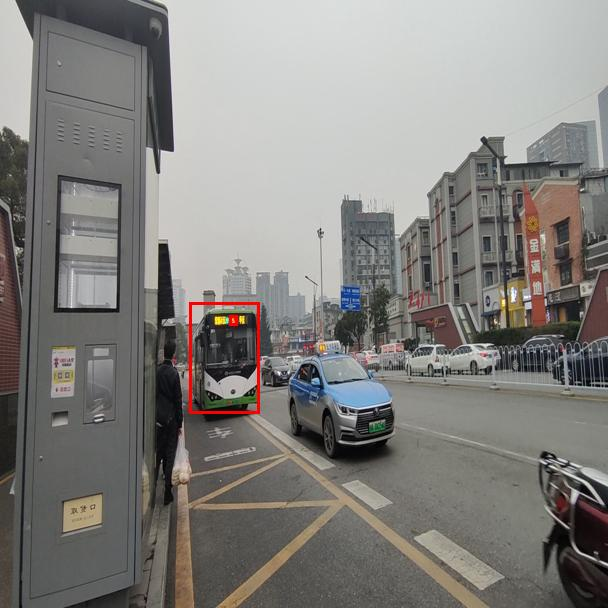bus: (189, 302, 259, 413)
screen: (229, 315, 237, 325)
